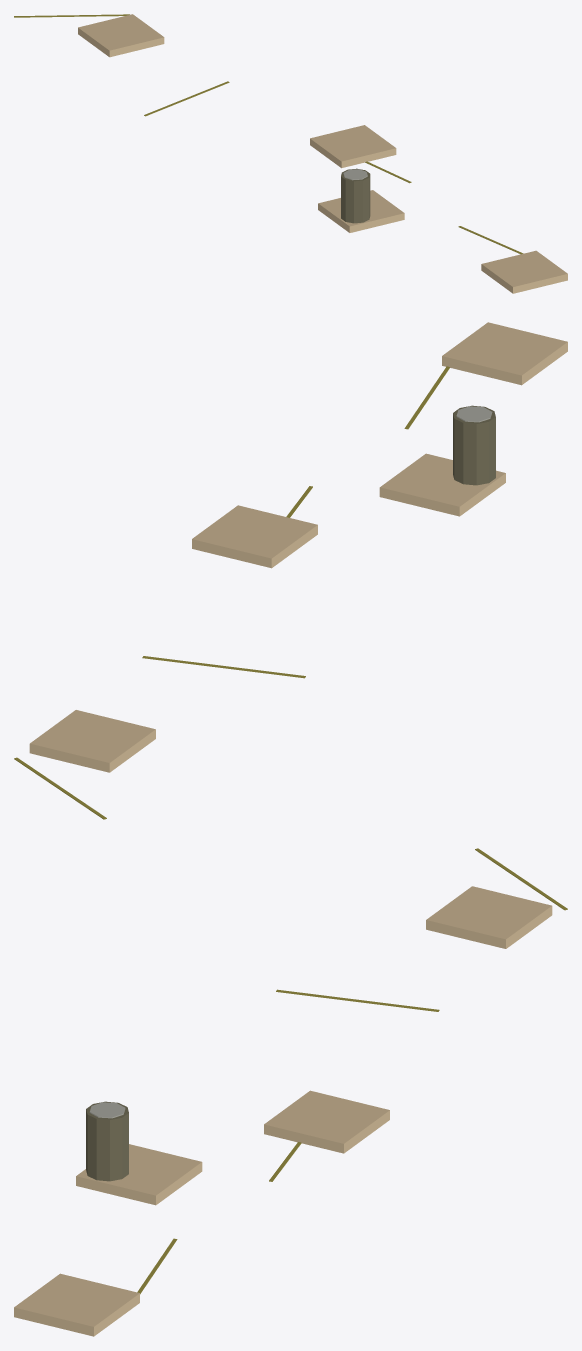
File: SM_CargaCombustible_Vacio_LOD0.fbx
The picture shows the model from 3 angles, top to bottom: view 1: azimuth 30°, elevation 25°; view 2: azimuth 150°, elevation 25°; view 3: azimuth 330°, elevation 25°; orthographic projection. The views are drawn at different scales.
Parts seen in each view (by area): view 1: SM_carga_vagon_v7_LOD0; view 2: SM_carga_vagon_v7_LOD0; view 3: SM_carga_vagon_v7_LOD0.
Part boxes in pixels (x1,y1,x2,y2): SM_carga_vagon_v7_LOD0: (14, 14, 567, 293); SM_carga_vagon_v7_LOD0: (14, 322, 567, 819); SM_carga_vagon_v7_LOD0: (14, 848, 567, 1336).
Bounding box in the file's own units: 3.26 × 1.04 × 15.49.
